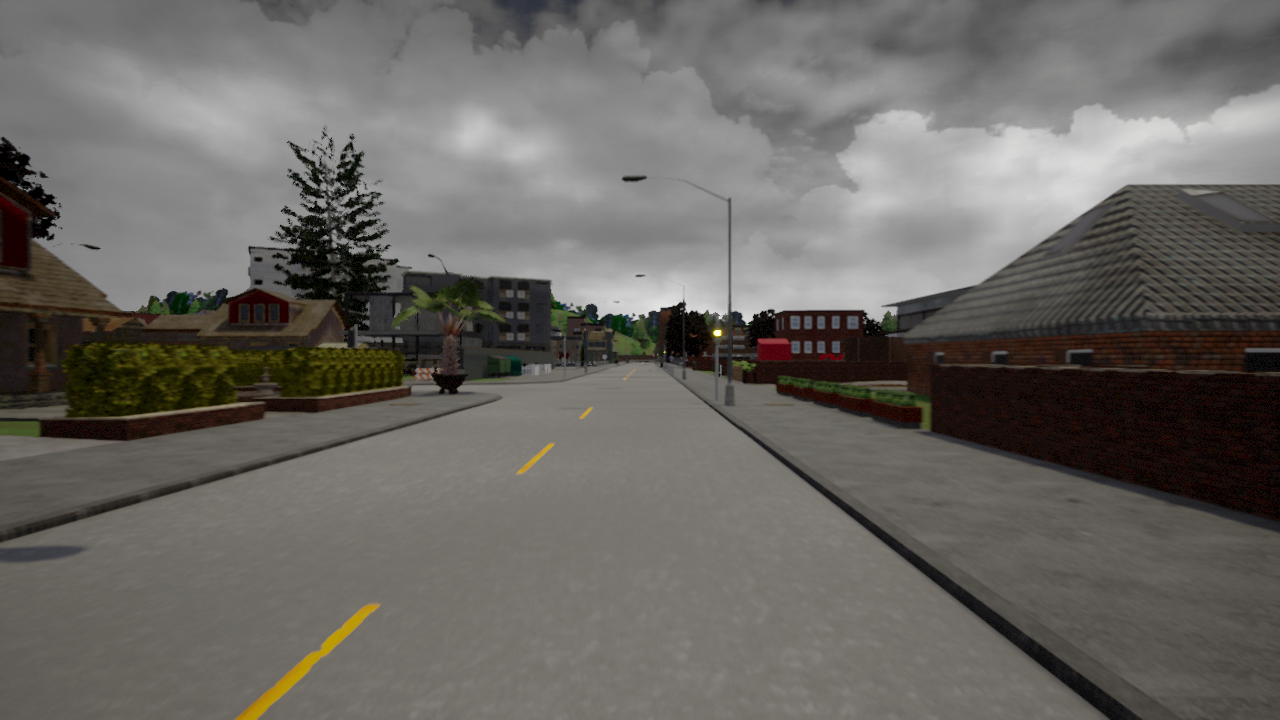yellow: (712, 320, 723, 345)
